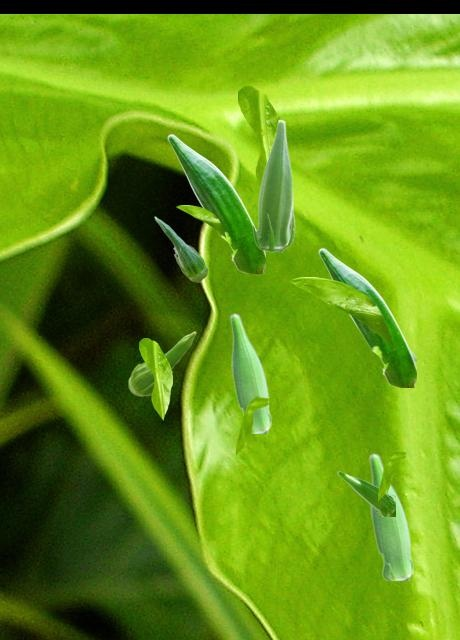okra: (167, 134, 264, 272), (318, 248, 415, 386), (368, 453, 412, 579), (252, 119, 294, 251), (229, 313, 270, 432), (128, 331, 195, 395), (154, 216, 207, 281), (337, 471, 394, 515)
